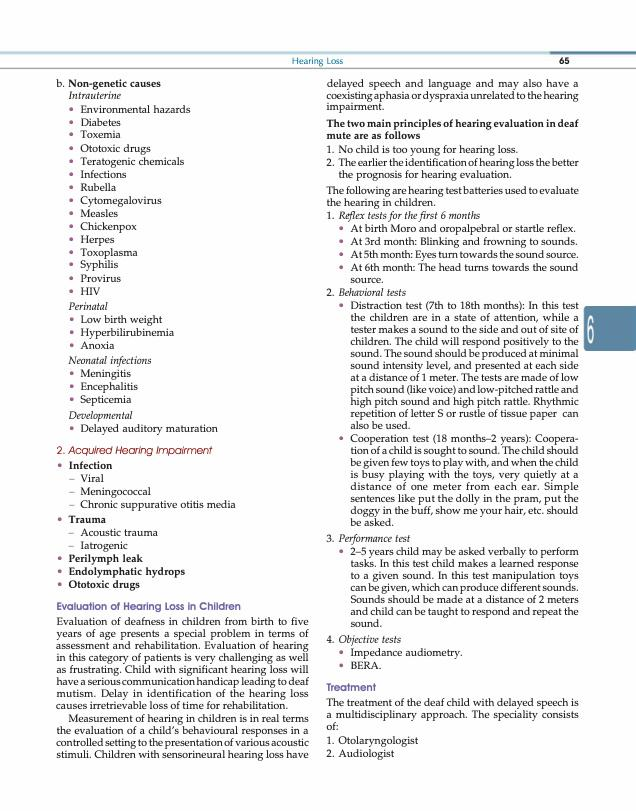header: (291, 56, 344, 67)
list: (324, 144, 582, 672), (54, 77, 236, 592), (67, 104, 192, 297), (56, 460, 237, 591), (68, 472, 237, 512), (68, 314, 175, 350), (68, 368, 139, 406), (325, 734, 418, 762), (67, 527, 159, 552)
sub-section-heading: (55, 600, 241, 614), (325, 682, 377, 693)
text: (54, 615, 310, 763), (325, 78, 581, 141), (324, 696, 580, 732)
